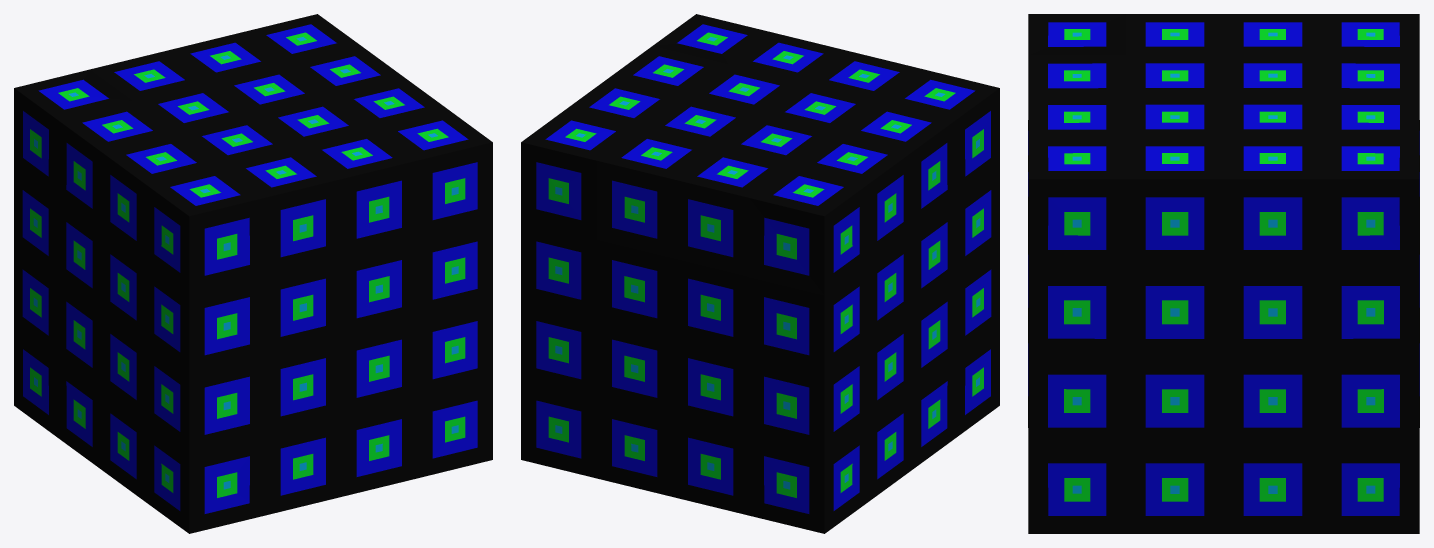
3 views of the same model, side by side, from view 1: azimuth 30°, elevation 25°; view 2: azimuth 150°, elevation 25°; view 3: azimuth 270°, elevation 25° (orthographic). The views are drawn at different scales.
Parts seen in each view (by area): view 1: Cube.019; view 2: Cube.019; view 3: Cube.019.
Boxes of the visible parts, x1,y1,x2,y2 form: Cube.019: (14,14,492,533); Cube.019: (521,14,999,533); Cube.019: (1028,14,1419,533).
Bounding box in the file's own units: 200 × 200 × 200.
